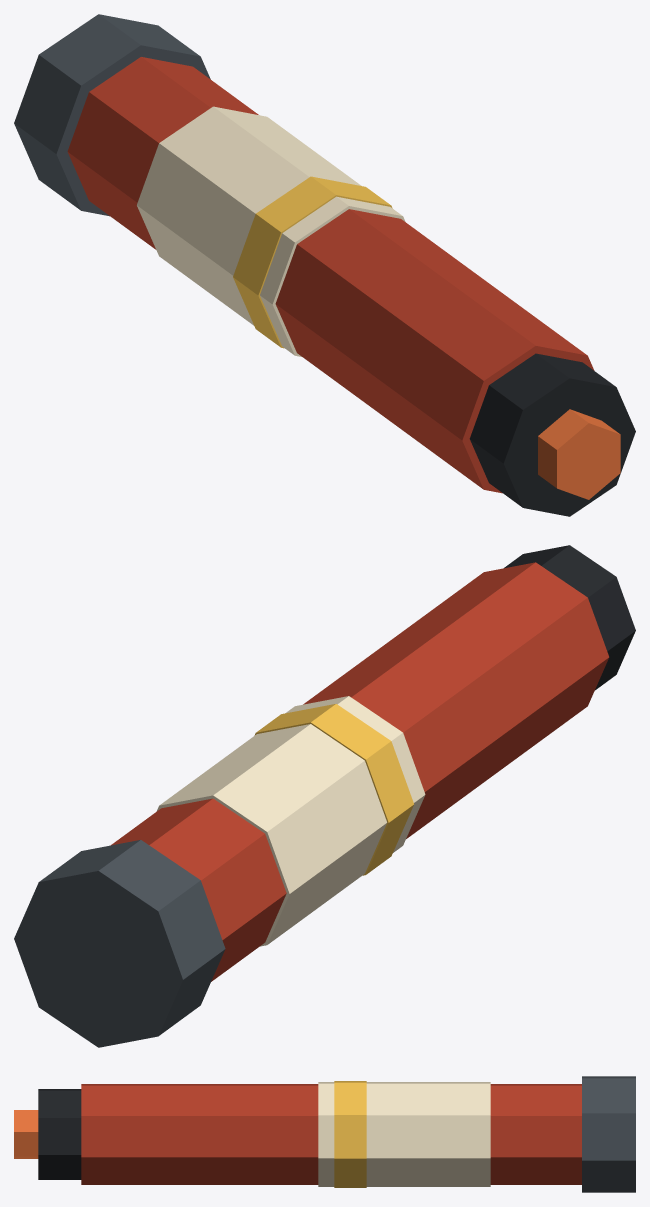
File: Throwable_Flare.fbx
3 views of the same model, one above another, from view 1: azimuth 30°, elevation 25°; view 2: azimuth 150°, elevation 25°; view 3: azimuth 270°, elevation 25° (orthographic). The views are drawn at different scales.
Parts seen in each view (by area): view 1: Flare; view 2: Flare; view 3: Flare.
Boxes of the visible parts, x1,y1,x2,y2 form: Flare: (14,14,635,516); Flare: (14,545,635,1047); Flare: (14,1076,635,1192).
Bounding box in the file's own units: 0.23 × 0.23 × 1.15.
